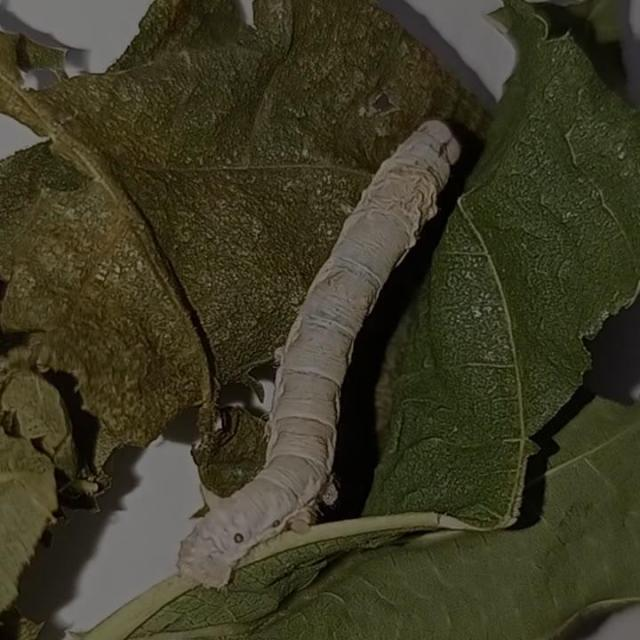Healthy: (153, 68, 473, 604)
